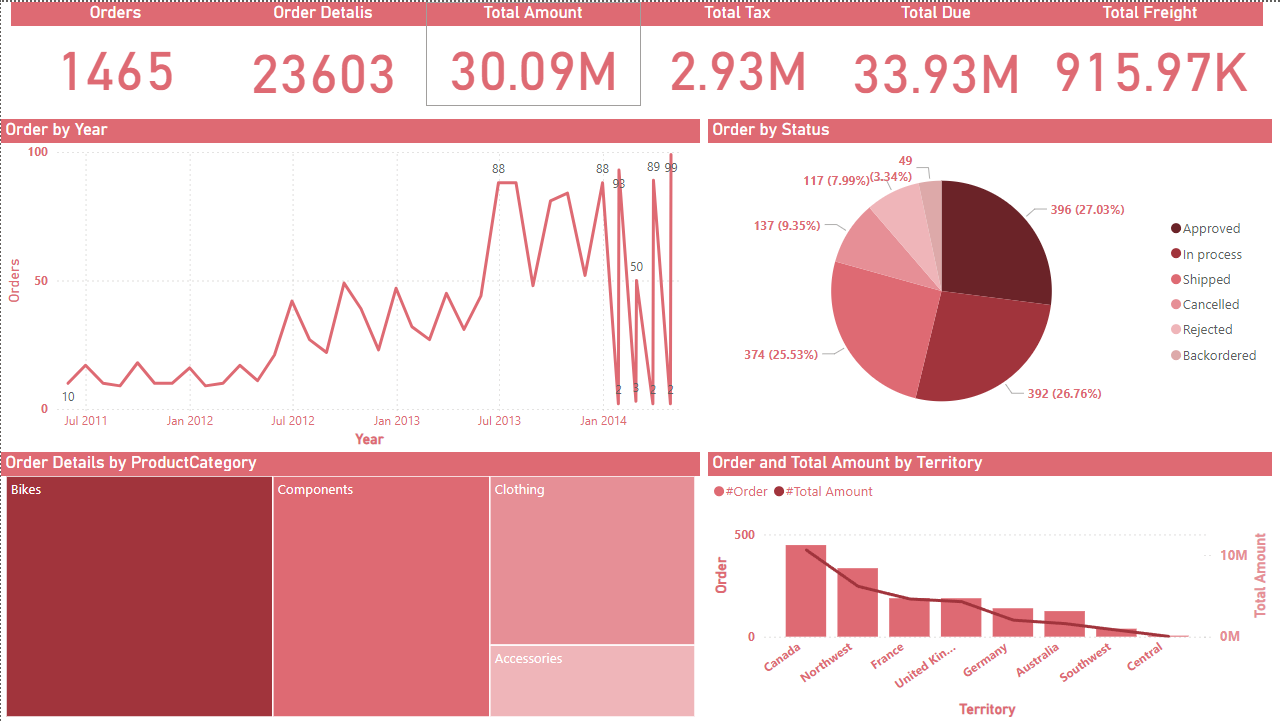

The page's visual inventory and layout, read from the dashboard file:
{"tool":"powerbi","page":{"name":"Page 1","canvas":[1280,720],"ordinal":0},"visuals":[{"type":"card","title":"Orders","fields":{"Values":["Dax Measures.#Order"]},"box":[10.1,0,209.6,103.8],"z":0},{"type":"card","title":"Order Detalis","fields":{"Values":["Dax Measures.#Order Details"]},"box":[219.7,0,205.6,109.9],"z":1000},{"type":"card","title":"Total Amount","fields":{"Values":["Dax Measures.#Total Amount"]},"box":[425.3,0,214.7,103.8],"z":2000},{"type":"card","title":"Total Due","fields":{"Values":["Dax Measures.#Total Due"]},"box":[833.5,0,203.6,109.9],"z":3000},{"type":"card","title":"Total Freight","fields":{"Values":["Dax Measures.#Total freight"]},"box":[1037.1,0,224.8,106.8],"z":4000},{"type":"card","title":"Total Tax","fields":{"Values":["Dax Measures.#Total Tax"]},"box":[640,0,193.5,103.8],"z":5000},{"type":"lineChart","title":"Order by Year","fields":{"Y":["Dax Measures.#Order"],"Category":["Sales.OrderDate"]},"box":[0,116.9,699.5,332.6],"z":6000},{"type":"pieChart","title":"Order by Status","fields":{"Category":["Sales.Status"],"Y":["Dax Measures.#Order"]},"box":[706.5,116.9,564.4,325.5],"z":7000},{"type":"lineStackedColumnComboChart","title":"Order and Total Amount by Territory","fields":{"Category":["Sales.Territory"],"Y":["Dax Measures.#Order"],"Y2":["Dax Measures.#Total Amount"]},"box":[707,450,564,270],"z":8000},{"type":"treemap","title":"Order Details by ProductCategory","fields":{"Group":["Sales.ProductHierarchy.ProductCategory","Sales.ProductHierarchy.ProductSubCategory","Sales.ProductHierarchy.Product"],"Values":["Dax Measures.#Order Details"]},"box":[0,450,699,270],"z":9000}]}

Visuals, with their boxes in screenshot pixels (x1, y1, x2, y2), scaled from the page's 1280x720 canvas onto the 1281x721 screenshot:
"Orders" card: (10, 0, 220, 104)
"Order Detalis" card: (220, 0, 426, 110)
"Total Amount" card: (426, 0, 640, 104)
"Total Due" card: (834, 0, 1038, 110)
"Total Freight" card: (1038, 0, 1263, 107)
"Total Tax" card: (640, 0, 834, 104)
"Order by Year" lineChart: (0, 117, 700, 450)
"Order by Status" pieChart: (707, 117, 1272, 443)
"Order and Total Amount by Territory" lineStackedColumnComboChart: (708, 451, 1272, 720)
"Order Details by ProductCategory" treemap: (0, 451, 700, 720)
